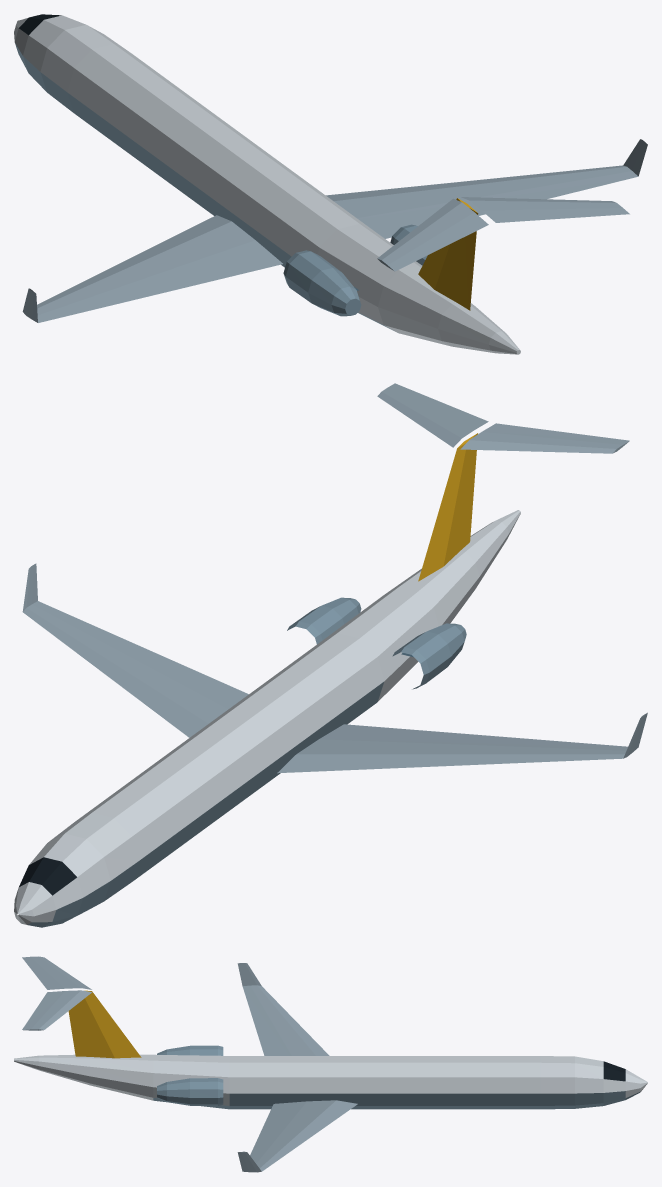
File: CRJ7.glb
The picture shows the model from 3 angles, top to bottom: view 1: azimuth 30°, elevation 25°; view 2: azimuth 150°, elevation 25°; view 3: azimuth 270°, elevation 25°; orthographic projection. The views are drawn at different scales.
Parts seen in each view (by area): view 1: lod0; view 2: lod0; view 3: lod0.
Part boxes in pixels (x1,y1,x2,y2): lod0: (14, 14, 647, 354); lod0: (14, 383, 647, 927); lod0: (14, 956, 647, 1172).
Size of what is drawn, in the model's own units: 0.7051 by 0.2031 by 1.
